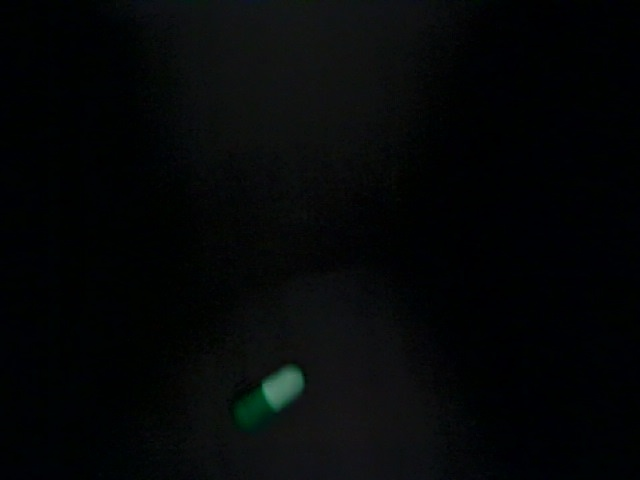YHLJ: (225, 110, 484, 205)
